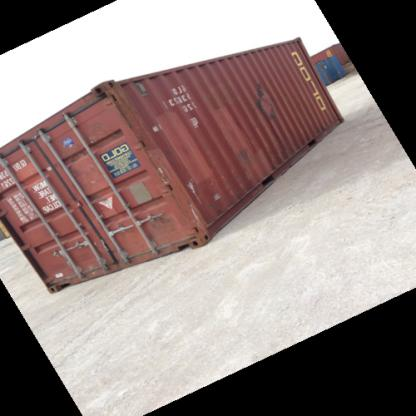Damage: (136, 212, 175, 249), (250, 80, 283, 123), (175, 172, 204, 218), (60, 154, 96, 180), (211, 184, 233, 214), (236, 137, 260, 164), (183, 107, 205, 136), (149, 118, 169, 140)
